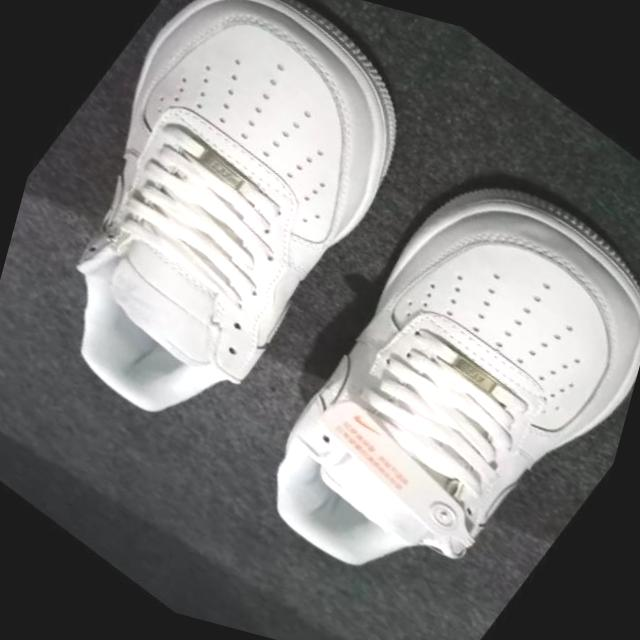nike_fake_airforce: (197, 95, 640, 640), (0, 0, 476, 497)
